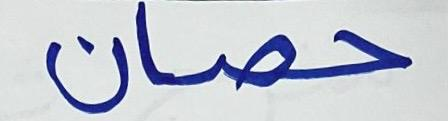alef: (132, 0, 174, 92)
hah: (305, 22, 414, 83)
noon: (40, 27, 130, 114)
sad: (180, 33, 300, 93)
